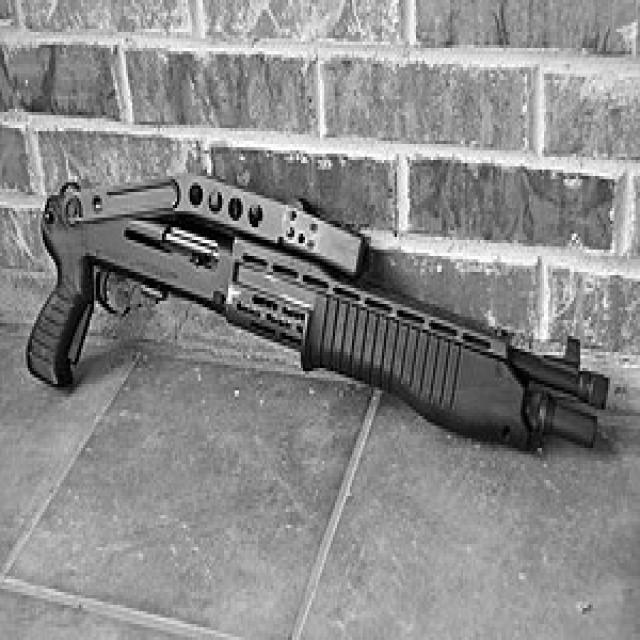Short-Gun: (12, 139, 640, 502)
